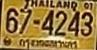2: (54, 11, 66, 36)
3: (80, 12, 92, 36)
4: (67, 11, 79, 36), (41, 10, 53, 34)
6: (5, 8, 18, 32)
7: (19, 8, 31, 33)
BKK: (18, 37, 79, 50)
